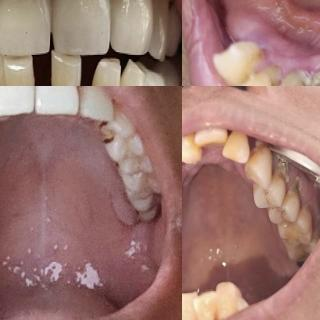calculus: (269, 160, 295, 184), (283, 63, 309, 86), (288, 180, 309, 200), (252, 138, 274, 156), (188, 148, 203, 166), (302, 198, 316, 216)
maligned: (251, 180, 287, 212), (221, 134, 251, 170), (213, 280, 239, 319), (196, 123, 227, 153), (193, 289, 218, 320), (182, 283, 198, 320), (182, 131, 198, 165)
stains: (96, 131, 122, 159), (97, 112, 115, 138), (113, 156, 130, 180)
